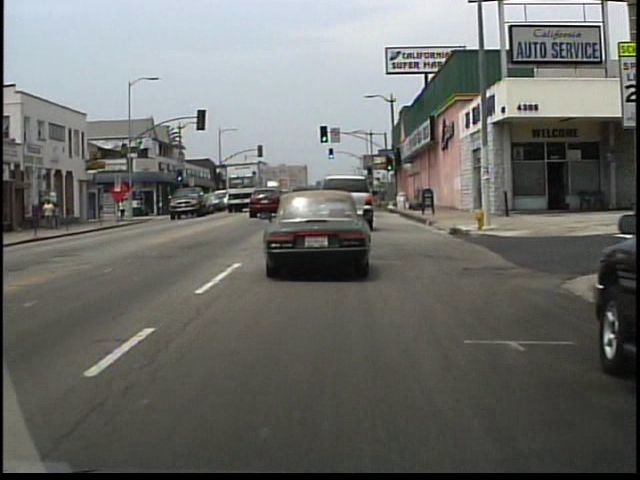person: (45, 196, 56, 228), (56, 202, 66, 230), (118, 199, 129, 222)
